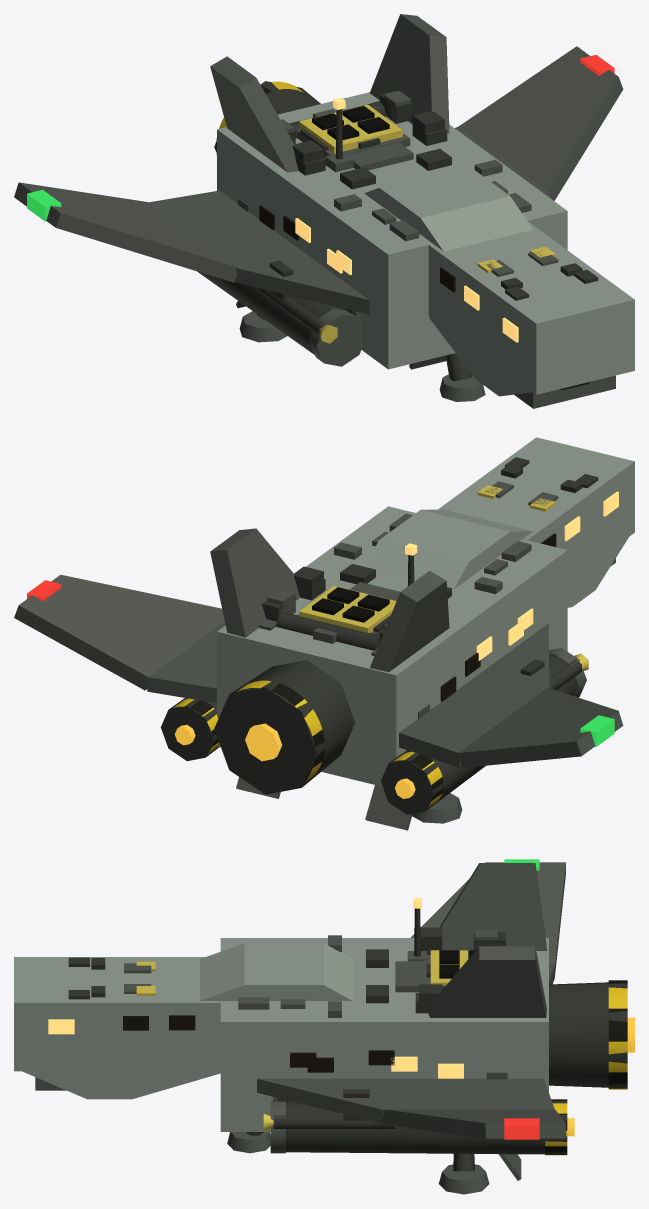
File: fighter-m.glb
3 renders of one model, top to bottom at view 1: azimuth 30°, elevation 25°; view 2: azimuth 150°, elevation 25°; view 3: azimuth 270°, elevation 25°, orthographic. The views are drawn at different scales.
Parts seen in each view (by area): view 1: hullMain, hullForebody, wingOuterRight, wingInnerLeft, canopyFairing, wingOuterLeft, stabilizerFinR, stabilizerFinL, engineHousing (×2), engineIntakeRing, hullForebodyChamfer, gearFoot (×2) (+8 smaller); view 2: hullMain, engineHousing (×3), hullForebody, wingOuterRight, wingInnerLeft, canopyFairing, wingOuterLeft, stabilizerFinR, stabilizerFinL, wingInnerRight, propellantHeader, vlsRim (+7 smaller); view 3: hullMain, hullForebody, engineHousing (×2), wingInnerRight, canopyFairing, stabilizerFinL, stabilizerFinR, wingOuterRight, hullForebodyChamfer, wingOuterLeft, gearFoot (×2), laserBarrel (+6 smaller).
Part boxes in pixels (box(x1,y1,x2,y2)): hullMain: box(217, 92, 567, 369); hullForebody: box(428, 221, 634, 394); wingOuterRight: box(458, 46, 623, 200); wingInnerLeft: box(149, 190, 369, 314); canopyFairing: box(364, 166, 532, 251); wingOuterLeft: box(14, 182, 237, 282); stabilizerFinR: box(370, 14, 449, 133); stabilizerFinL: box(210, 56, 298, 172); engineHousing (×2): box(197, 81, 345, 354); engineIntakeRing: box(308, 308, 361, 366); hullForebodyChamfer: box(429, 317, 532, 396); gearFoot (×2): box(239, 311, 485, 401); hullMain: box(217, 506, 567, 786); engineHousing (×3): box(160, 655, 577, 814); hullForebody: box(438, 437, 634, 581); wingOuterRight: box(14, 574, 224, 690); wingInnerLeft: box(399, 623, 549, 767); canopyFairing: box(365, 509, 532, 589); wingOuterLeft: box(457, 687, 623, 767); stabilizerFinR: box(210, 528, 299, 637); stabilizerFinL: box(370, 570, 449, 671); wingInnerRight: box(147, 621, 225, 702); propellantHeader: box(276, 612, 379, 650); vlsRim: box(299, 586, 396, 632); hullMain: box(220, 938, 548, 1131); hullForebody: box(14, 957, 220, 1071); engineHousing (×2): box(286, 982, 627, 1154); wingInnerRight: box(257, 1078, 554, 1123); canopyFairing: box(200, 943, 352, 1000); stabilizerFinL: box(439, 863, 546, 950); stabilizerFinR: box(428, 946, 546, 1017); wingOuterRight: box(383, 1109, 565, 1138); hullForebodyChamfer: box(22, 1071, 220, 1099); wingOuterLeft: box(410, 862, 565, 974); gearFoot (×2): box(227, 1132, 489, 1194); laserBarrel: box(273, 1115, 394, 1128).
Bounding box in the file's own units: 2.86 × 1.19 × 2.81.
